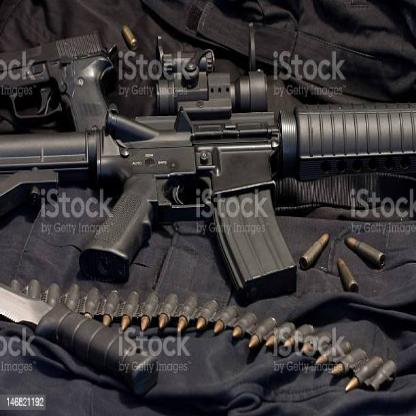Gun: (0, 37, 416, 305)
Knife: (0, 280, 160, 400)
Pistol: (0, 30, 121, 130)
